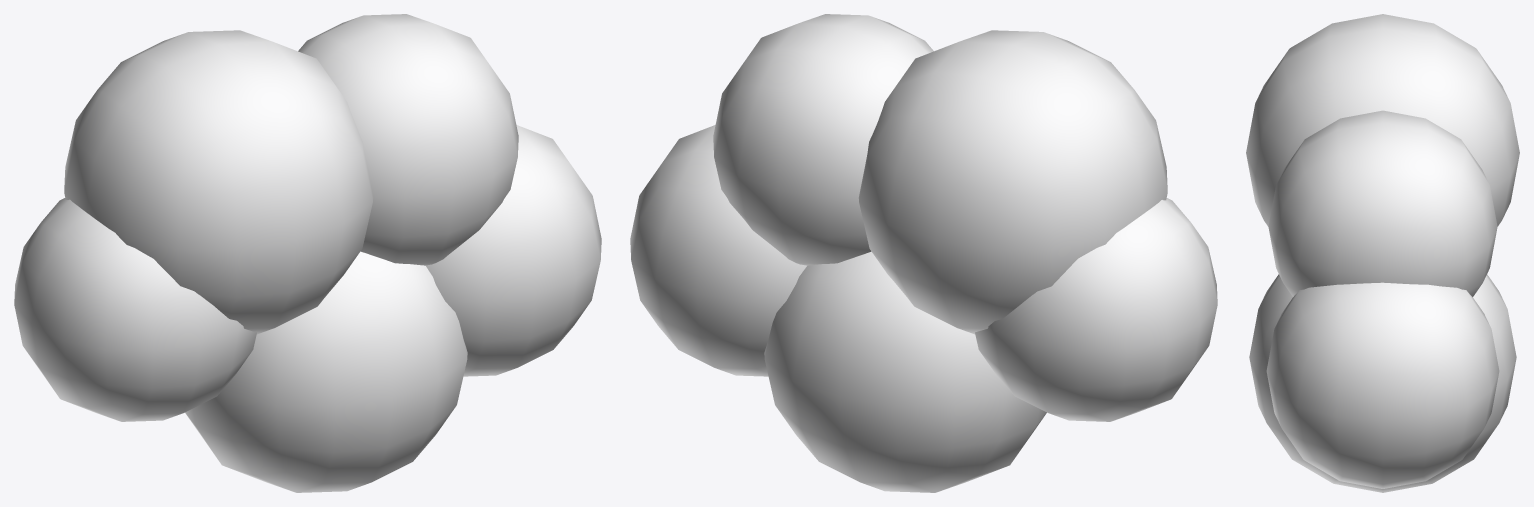
The model's file is Farm_8_Cloud_1.glb.
The picture shows the model from 3 angles, left to right: view 1: azimuth 30°, elevation 25°; view 2: azimuth 150°, elevation 25°; view 3: azimuth 270°, elevation 25°; orthographic projection. The views are drawn at different scales.
Visible parts, largest first — view 1: Farm_8_Cloud_1; view 2: Farm_8_Cloud_1; view 3: Farm_8_Cloud_1.
Boxes of the visible parts, x1,y1,x2,y2 form: Farm_8_Cloud_1: (14,14,601,492); Farm_8_Cloud_1: (630,14,1217,492); Farm_8_Cloud_1: (1246,14,1519,492).
Bounding box in the file's own units: 2.22 × 1.76 × 1.07.
1 material, 1 textured.
